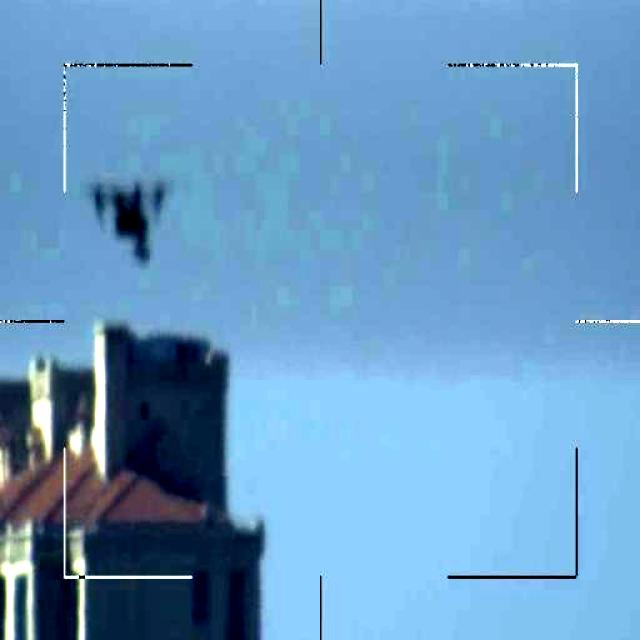bird: (88, 170, 174, 265)
